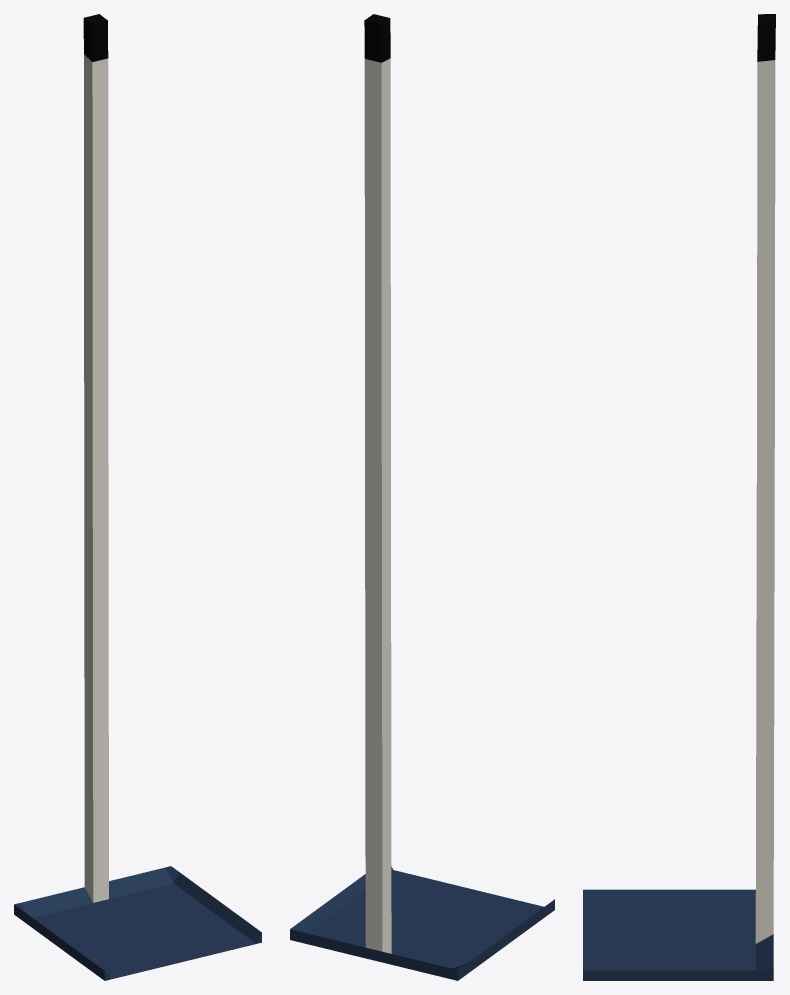
The model's file is Scoop.fbx.
The picture shows the model from 3 angles, left to right: view 1: azimuth 30°, elevation 25°; view 2: azimuth 150°, elevation 25°; view 3: azimuth 270°, elevation 25°; orthographic projection. The views are drawn at different scales.
Visible parts, largest first — view 1: Cube.002; view 2: Cube.002; view 3: Cube.002.
Boxes of the visible parts, left/top/right/bottom form: Cube.002: left=14, top=14, right=261, bottom=980; Cube.002: left=290, top=14, right=554, bottom=980; Cube.002: left=583, top=14, right=775, bottom=980.
Size of the model in its own units: 0.25 by 1.34 by 0.253.
